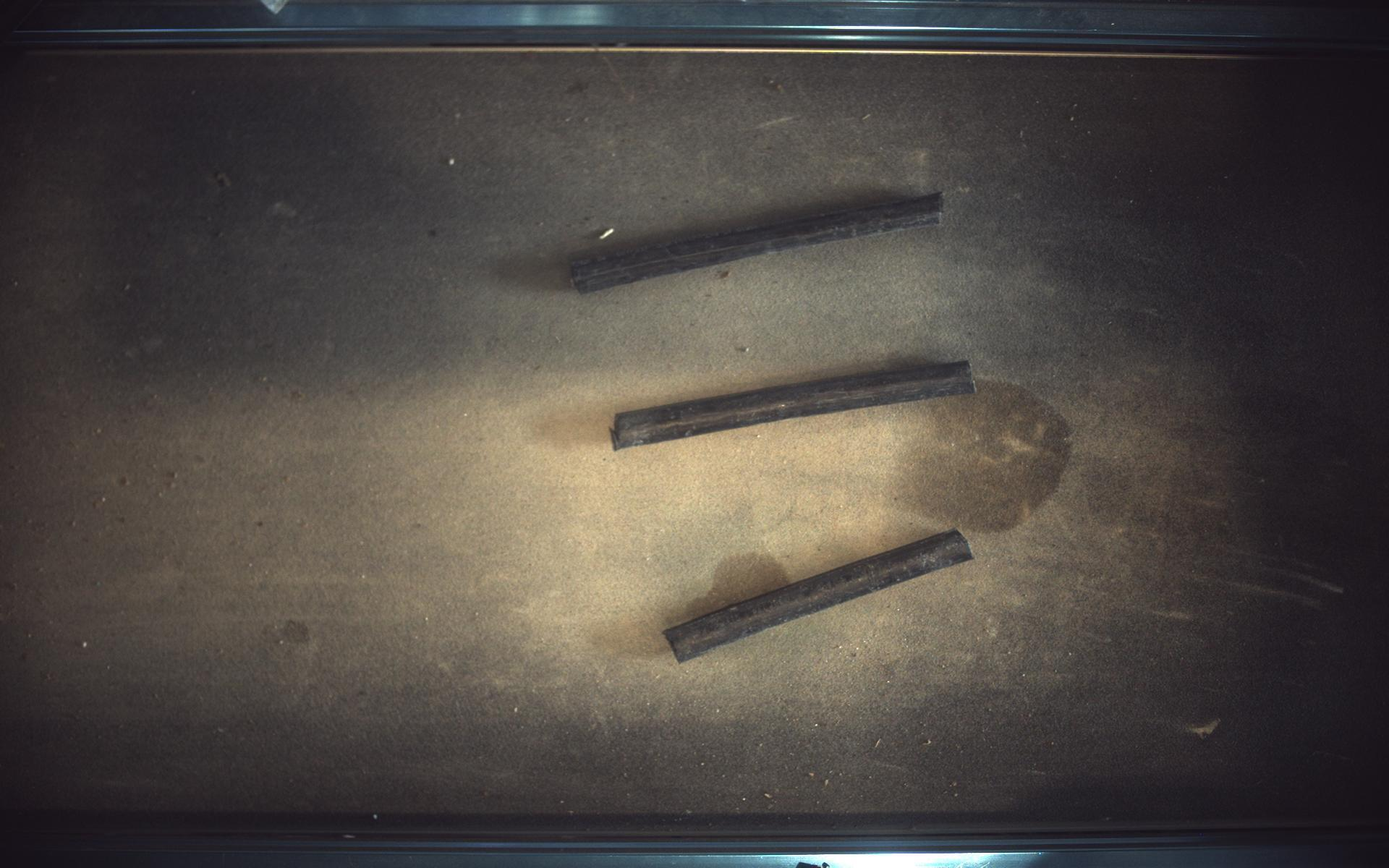pipes: (666, 529, 975, 663), (572, 192, 944, 293), (612, 360, 978, 450)
